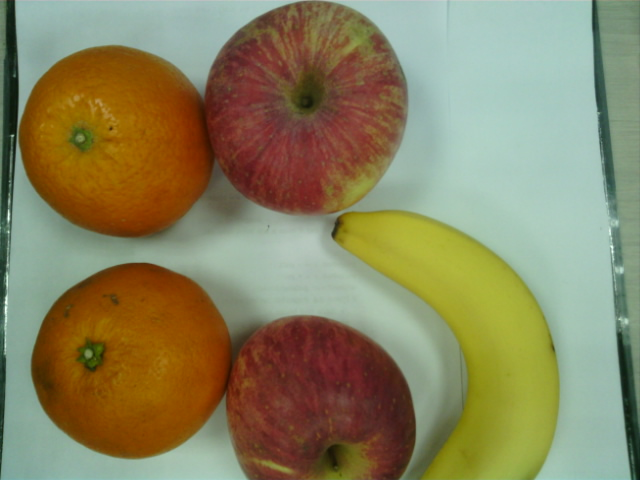normal_apple: (206, 1, 408, 213), (226, 316, 415, 480)
normal_banana: (333, 210, 560, 480)
normal_orange: (31, 260, 226, 458), (18, 46, 206, 238)
